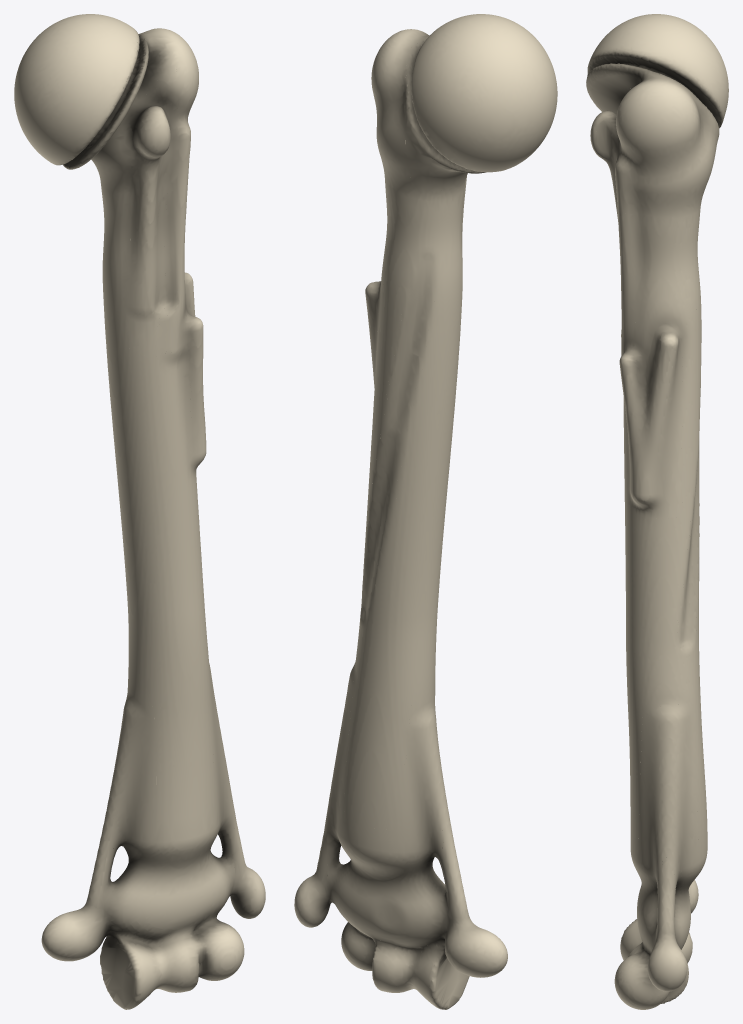
Rendered from humero-anterior.glb.
3 views of the same model, side by side, from view 1: azimuth 30°, elevation 25°; view 2: azimuth 150°, elevation 25°; view 3: azimuth 270°, elevation 25° (orthographic). The views are drawn at different scales.
Visible parts, largest first — view 1: humerus_L_shaft, humerus_L_supracondylar_ridges, humerus_L_head, humerus_L_tubercle_crests, humerus_L_trochlea, humerus_L_medial_epicondyle, humerus_L_lesser_tubercle, humerus_L_greater_tubercle, humerus_L_intertubercular_sulcus, humerus_L_anatomical_neck, humerus_L_surgical_neck, humerus_L_capitulum (+2 smaller); view 2: humerus_L_shaft, humerus_L_supracondylar_ridges, humerus_L_head, humerus_L_surgical_neck, humerus_L_radial_groove, humerus_L_greater_tubercle, humerus_L_trochlea, humerus_L_medial_epicondyle, humerus_L_anatomical_neck, humerus_L_lateral_epicondyle, humerus_L_olecranon_fossa, humerus_L_capitulum (+1 smaller); view 3: humerus_L_shaft, humerus_L_supracondylar_ridges, humerus_L_greater_tubercle, humerus_L_deltoid_tuberosity, humerus_L_surgical_neck, humerus_L_head, humerus_L_lateral_epicondyle, humerus_L_tubercle_crests, humerus_L_radial_groove, humerus_L_anatomical_neck, humerus_L_lesser_tubercle, humerus_L_capitulum (+2 smaller).
Part boxes in pixels (x1=…): humerus_L_shaft: x1=102, y1=275, x2=214, y2=820; humerus_L_supracondylar_ridges: x1=105, y1=663, x2=235, y2=941; humerus_L_head: x1=14, y1=14, x2=138, y2=164; humerus_L_tubercle_crests: x1=128, y1=179, x2=192, y2=356; humerus_L_trochlea: x1=100, y1=927, x2=200, y2=1009; humerus_L_medial_epicondyle: x1=41, y1=815, x2=121, y2=961; humerus_L_lesser_tubercle: x1=77, y1=48, x2=170, y2=191; humerus_L_greater_tubercle: x1=140, y1=28, x2=198, y2=182; humerus_L_intertubercular_sulcus: x1=151, y1=59, x2=179, y2=355; humerus_L_anatomical_neck: x1=55, y1=32, x2=148, y2=186; humerus_L_surgical_neck: x1=99, y1=173, x2=134, y2=290; humerus_L_capitulum: x1=193, y1=915, x2=244, y2=980; humerus_L_shaft: x1=343, y1=279, x2=462, y2=830; humerus_L_supracondylar_ridges: x1=326, y1=664, x2=450, y2=948; humerus_L_head: x1=411, y1=14, x2=557, y2=172; humerus_L_surgical_neck: x1=381, y1=176, x2=465, y2=294; humerus_L_radial_groove: x1=360, y1=293, x2=435, y2=624; humerus_L_greater_tubercle: x1=371, y1=29, x2=429, y2=190; humerus_L_trochlea: x1=371, y1=937, x2=469, y2=1009; humerus_L_medial_epicondyle: x1=442, y1=826, x2=507, y2=977; humerus_L_anatomical_neck: x1=405, y1=35, x2=485, y2=191; humerus_L_lateral_epicondyle: x1=294, y1=808, x2=330, y2=927; humerus_L_olecranon_fossa: x1=370, y1=894, x2=409, y2=935; humerus_L_capitulum: x1=341, y1=922, x2=375, y2=970; humerus_L_shaft: x1=623, y1=304, x2=707, y2=840; humerus_L_supracondylar_ridges: x1=630, y1=704, x2=707, y2=954; humerus_L_greater_tubercle: x1=615, y1=67, x2=715, y2=216; humerus_L_deltoid_tuberosity: x1=619, y1=322, x2=682, y2=518; humerus_L_surgical_neck: x1=634, y1=203, x2=701, y2=318; humerus_L_head: x1=589, y1=14, x2=728, y2=121; humerus_L_lateral_epicondyle: x1=647, y1=857, x2=687, y2=991; humerus_L_tubercle_crests: x1=614, y1=195, x2=645, y2=355; humerus_L_radial_groove: x1=676, y1=365, x2=701, y2=654; humerus_L_anatomical_neck: x1=586, y1=50, x2=722, y2=151; humerus_L_lesser_tubercle: x1=586, y1=65, x2=631, y2=196; humerus_L_capitulum: x1=614, y1=947, x2=669, y2=1009.
Size of the model in its own units: 0.0806 by 0.3138 by 0.043.
